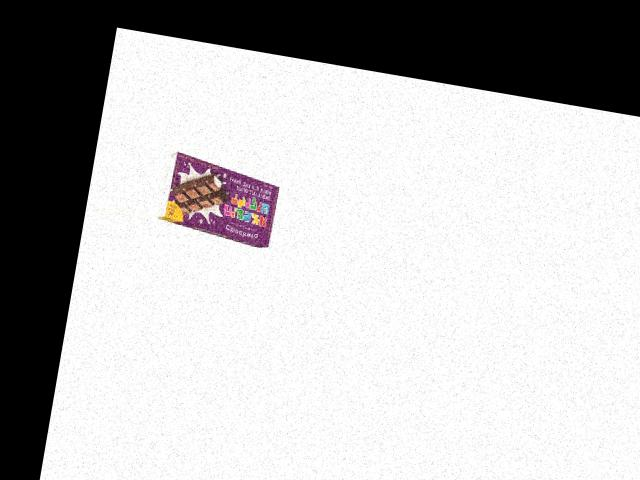chocolate: (153, 155, 289, 250)
